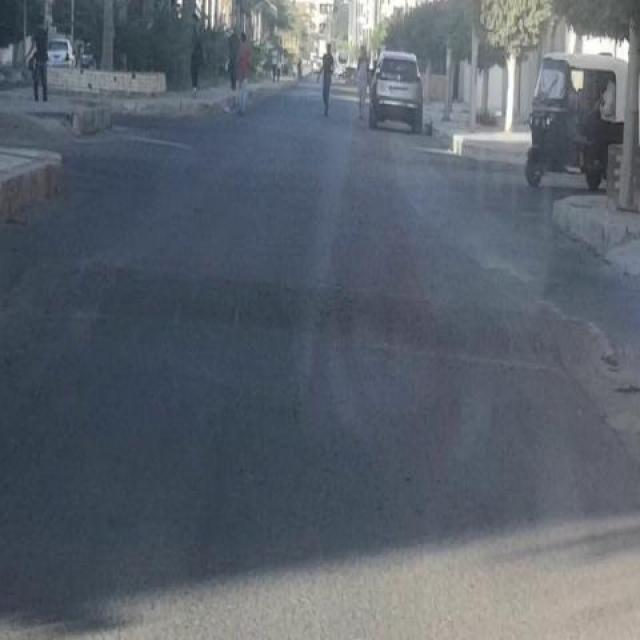Unmarked Bump: (6, 264, 614, 367)
